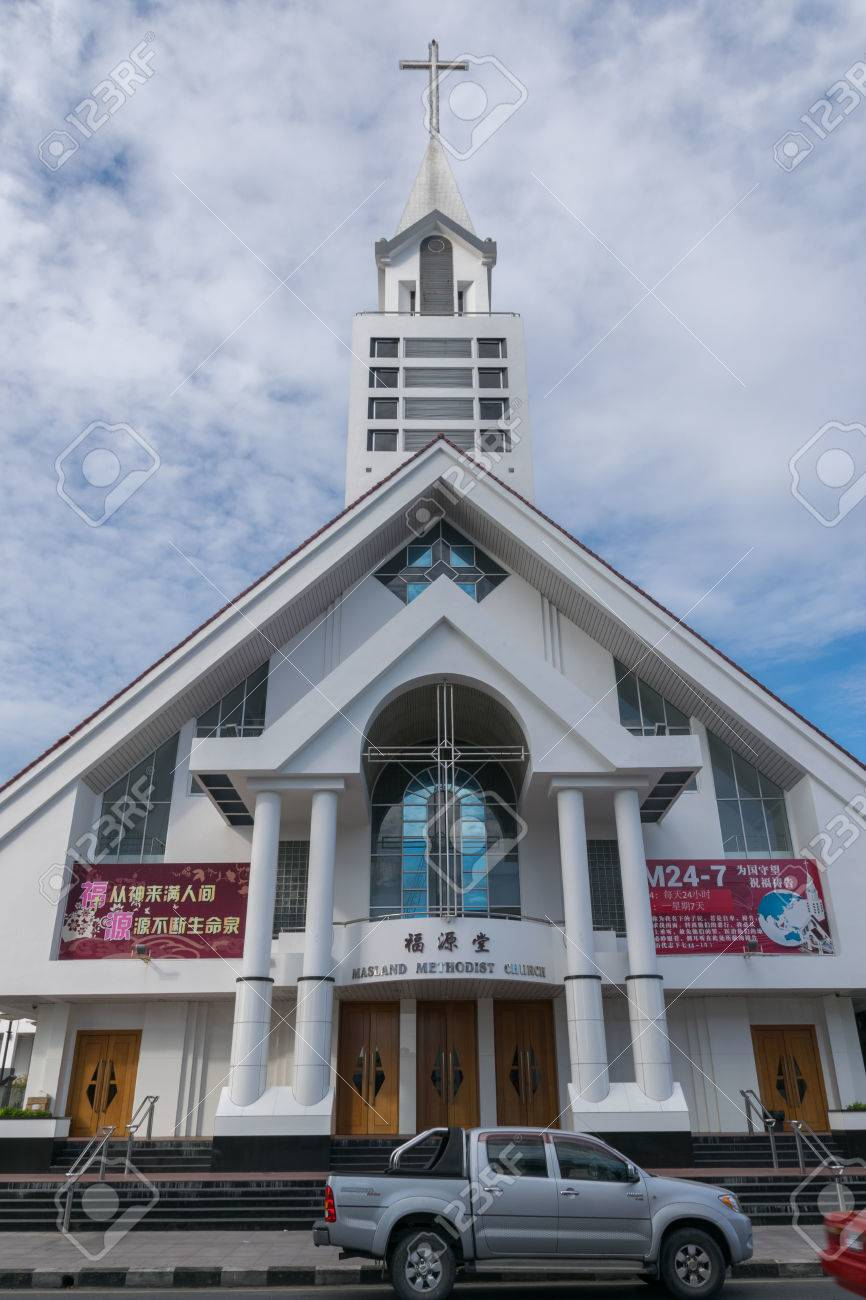Church: (56, 44, 804, 1137)
